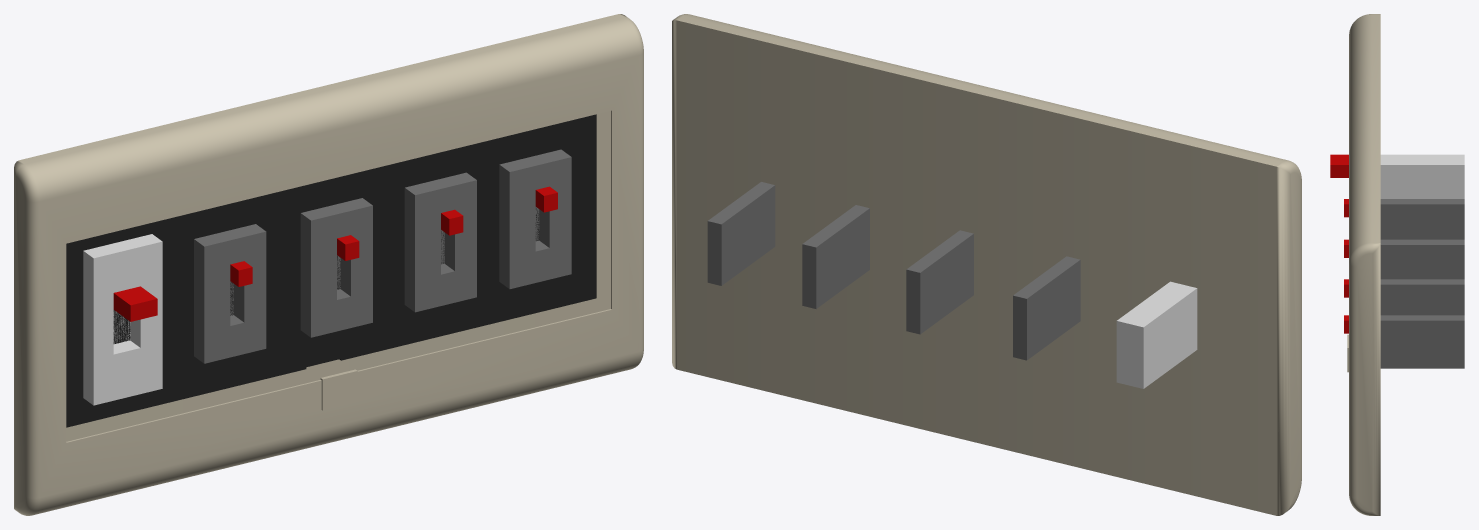
File: Electric breaker.fbx
3 views of the same model, side by side, from view 1: azimuth 30°, elevation 25°; view 2: azimuth 150°, elevation 25°; view 3: azimuth 270°, elevation 25° (orthographic). The views are drawn at different scales.
Visible parts, largest first — view 1: Group1, Group2, Group7, Group13, Group16, Group4, Group10, Group8; view 2: Group1, Group7, Group4, Group10, Group13, Group16; view 3: Group1, Group4, Group7, Group13, Group10, Group16, Group8.
Boxes of the visible parts, x1,y1,x2,y2 form: Group1: (14,14,643,515); Group2: (66,114,596,427); Group7: (83,234,162,405); Group13: (194,224,266,363); Group16: (404,172,476,312); Group4: (499,149,571,288); Group10: (300,198,372,337); Group8: (113,286,157,321); Group1: (672,14,1301,515); Group7: (1116,281,1197,388); Group4: (707,182,775,285); Group10: (906,230,973,334); Group13: (1013,256,1080,360); Group16: (802,205,869,308); Group1: (1347,14,1380,515); Group4: (1380,315,1464,368); Group7: (1380,154,1464,198); Group13: (1380,199,1464,239); Group10: (1380,239,1464,279); Group16: (1380,279,1464,315); Group8: (1330,154,1348,177).
Size of the model in its own units: 350 by 189 by 84.4.
